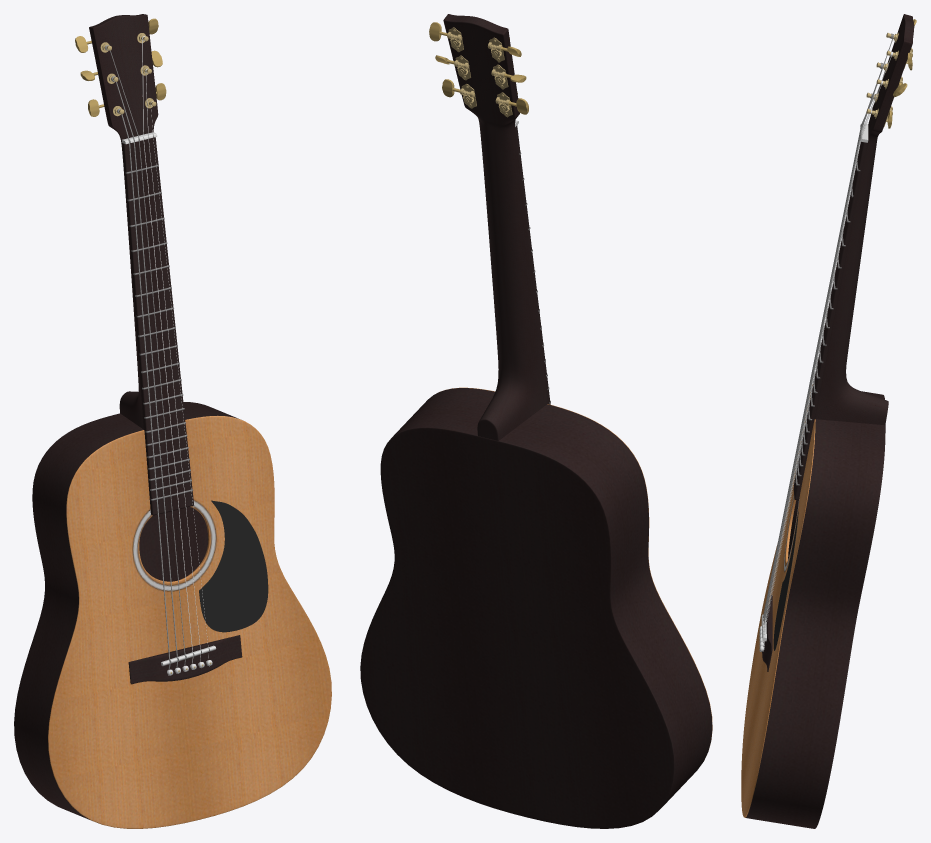
3 renders of one model, left to right at view 1: azimuth 30°, elevation 25°; view 2: azimuth 150°, elevation 25°; view 3: azimuth 270°, elevation 25°, orthographic. The views are drawn at different scales.
Parts seen in each view (by area): view 1: guitar-body, guitar-fretboard, guitar-neck, guitar-pick_guard, guitar-bridge, string.004, string.005, string.003, string.002, string.001; view 2: guitar-body, guitar-neck, guitar-fretboard; view 3: guitar-body, guitar-neck, guitar-fretboard, string.004, string.003, string.002, guitar-pick_guard, string.005, string.001, guitar-bridge, string.000.
Part boxes in pixels (<box>): guitar-body: <box>14,402,331,828</box>; guitar-fretboard: <box>122,137,194,515</box>; guitar-neck: <box>89,14,158,429</box>; guitar-pick_guard: <box>199,500,268,632</box>; guitar-bridge: <box>128,635,242,684</box>; string.004: <box>111,76,178,667</box>; string.005: <box>117,108,170,669</box>; string.003: <box>105,45,185,665</box>; string.002: <box>142,36,193,663</box>; string.001: <box>145,68,200,661</box>; guitar-body: <box>360,387,712,828</box>; guitar-neck: <box>443,14,547,440</box>; guitar-fretboard: <box>515,125,550,404</box>; guitar-body: <box>741,384,885,828</box>; guitar-neck: <box>815,14,914,425</box>; guitar-fretboard: <box>793,142,867,500</box>; string.004: <box>763,62,883,621</box>; string.003: <box>763,33,893,624</box>; string.002: <box>764,51,893,627</box>; guitar-pick_guard: <box>773,511,798,650</box>; string.005: <box>763,93,874,617</box>; string.001: <box>764,80,883,642</box>; guitar-bridge: <box>762,595,772,671</box>; string.000: <box>764,110,872,646</box>.
Size of the model in its own units: 3.65 by 9.3 by 1.91.
10 materials, 3 textured.
